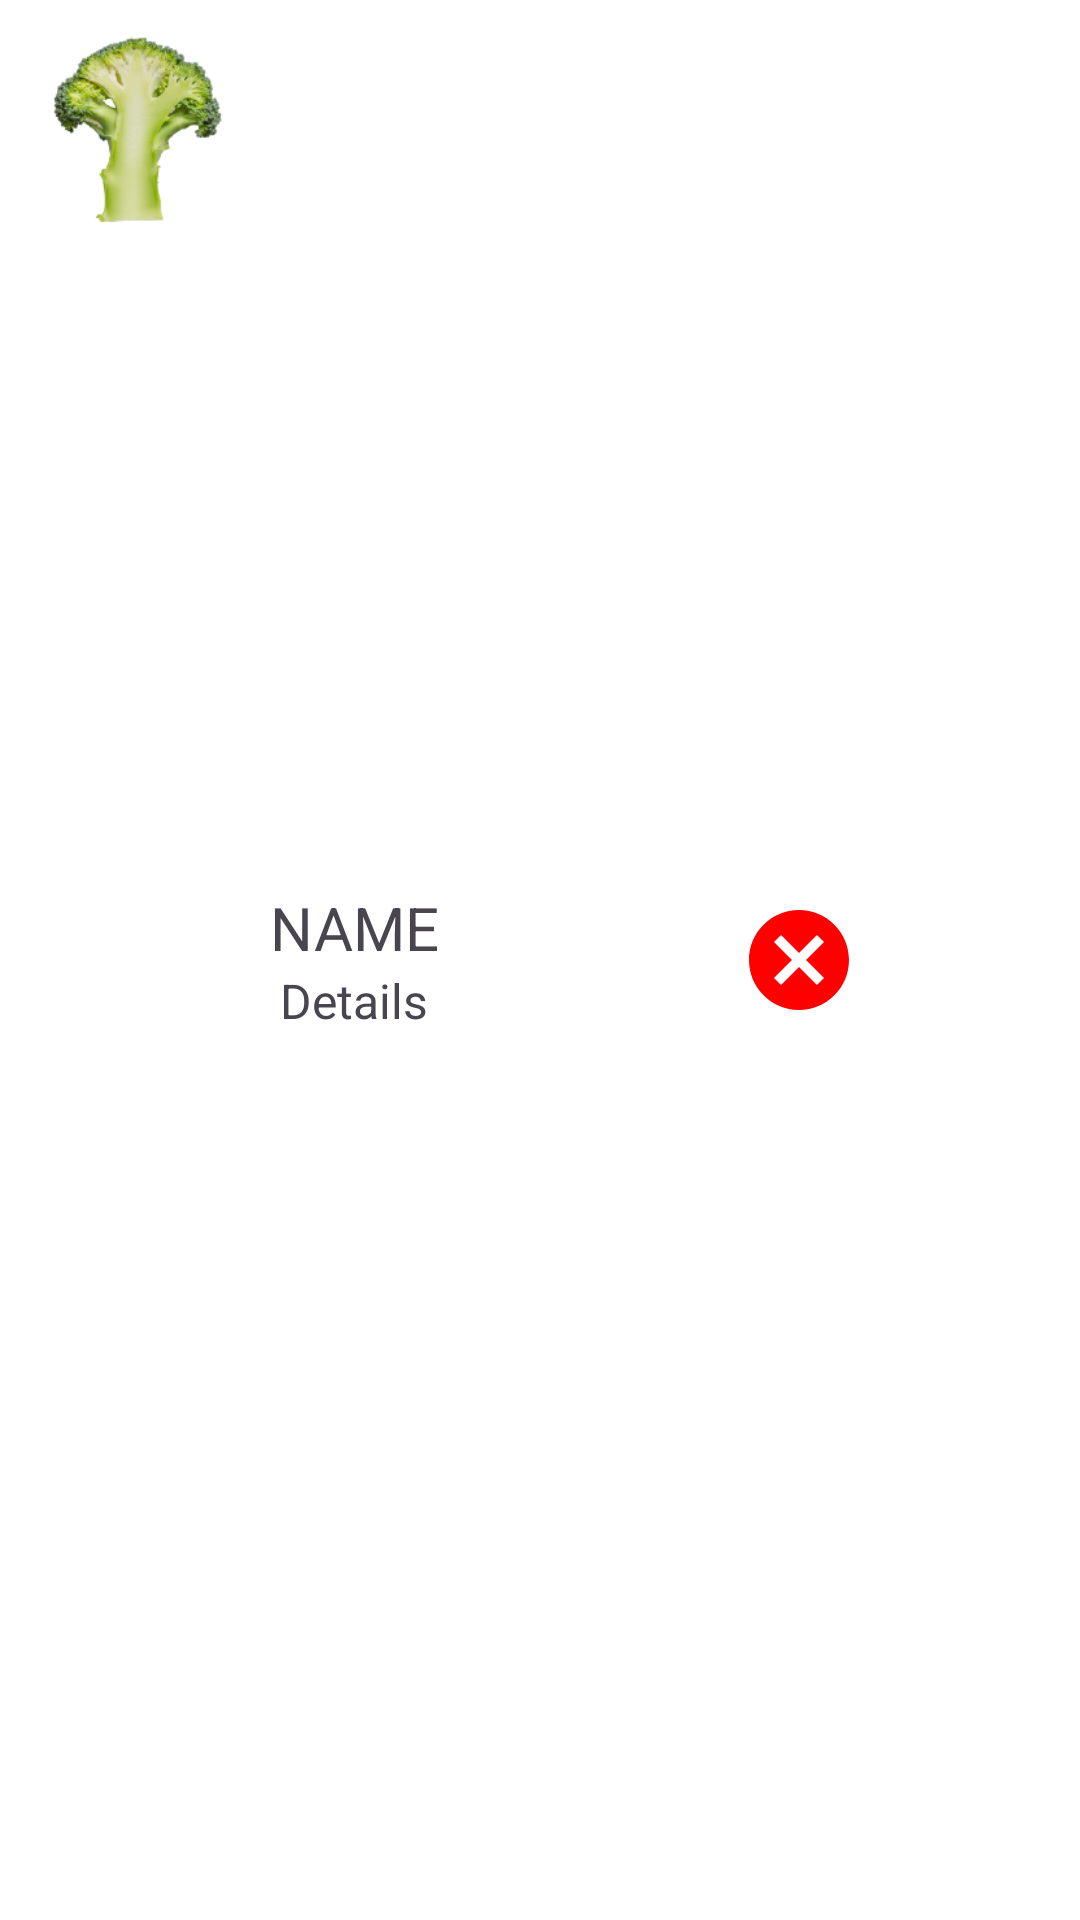

Icons on this 1080 × 1920 Android screen, each with the point to tap as point (x, y):
cancel: point (799, 960)
veg: point (138, 129)
